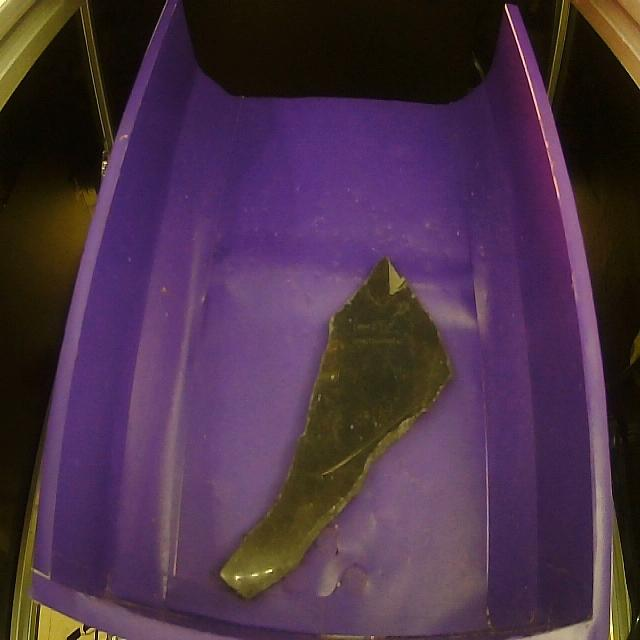china: (208, 244, 465, 608)
